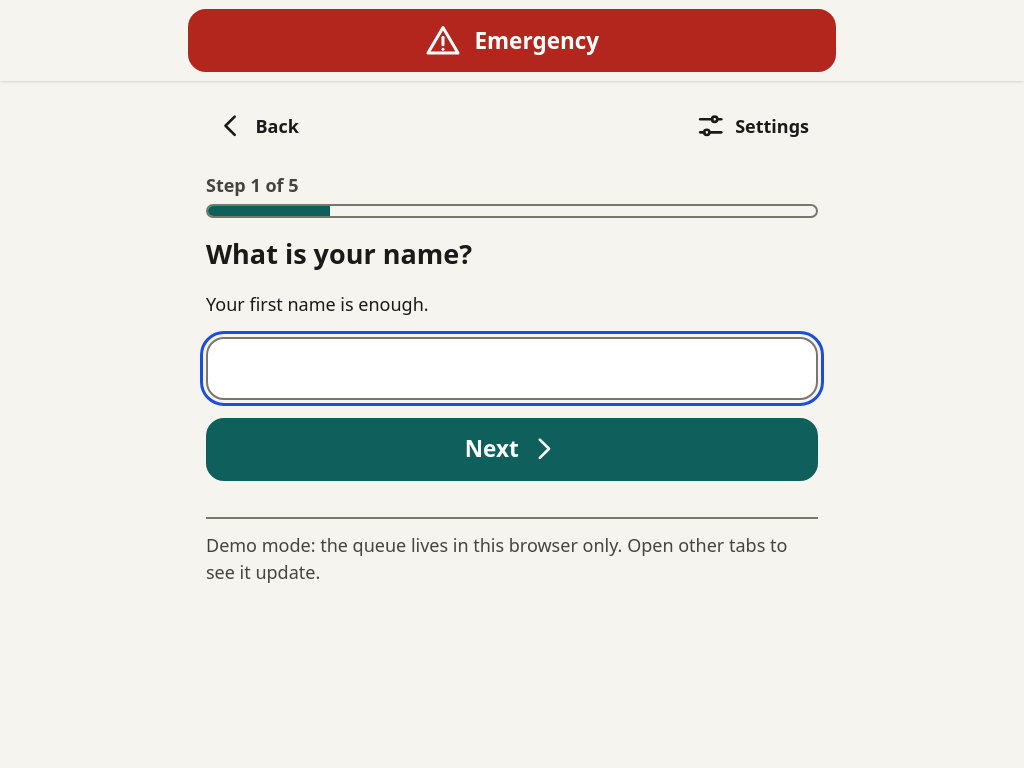
Scenario: register › checks answers before moving on
Click the button "Next": (512, 449) x1=206 y1=418 x2=818 y2=481
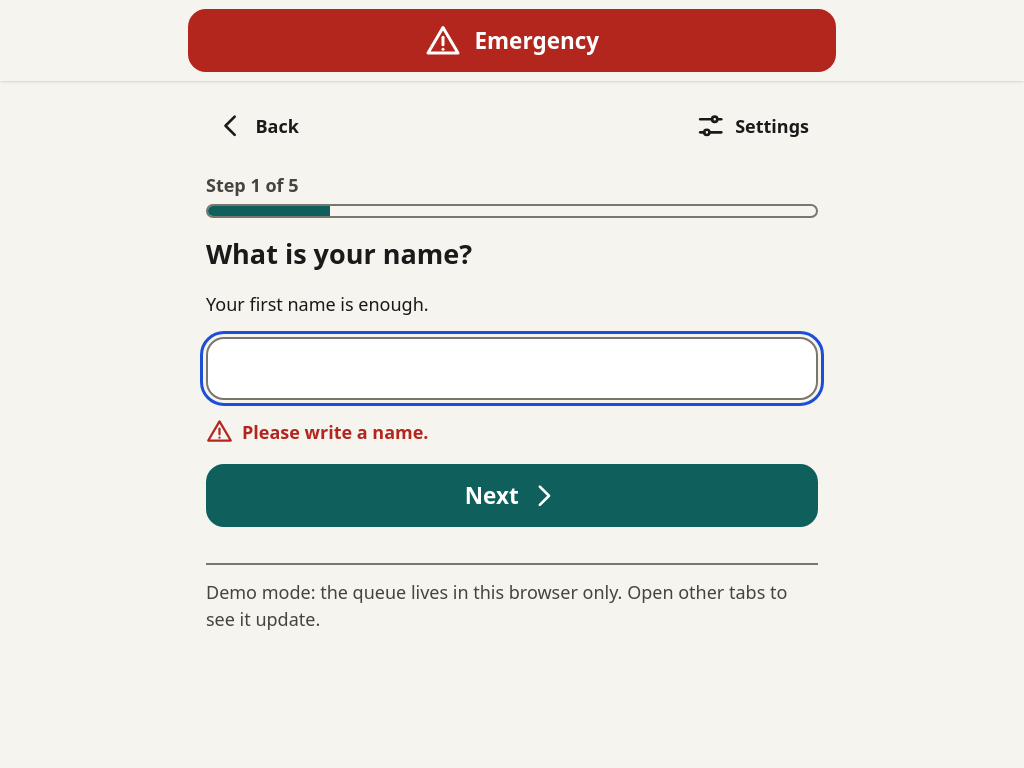
Now the message reads "Please write a name.", box x1=242 y1=420 x2=428 y2=444
In the field: (512, 368) x1=206 y1=337 x2=818 y2=400, type "Kamla"
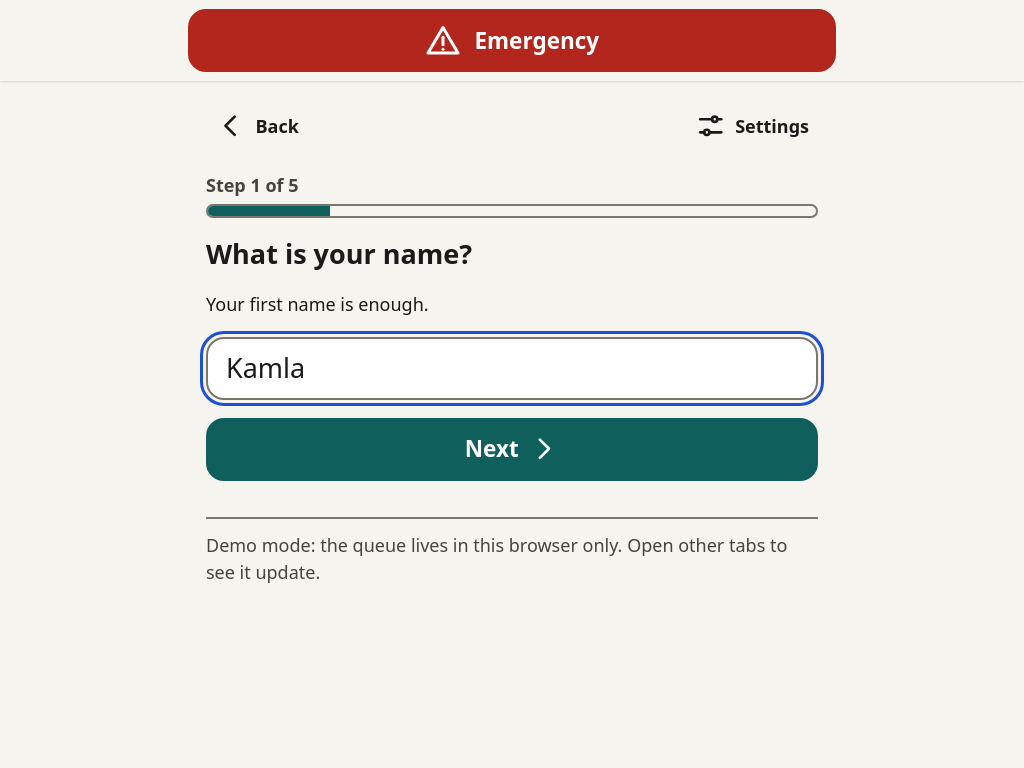
Click the button "Next": (512, 449) x1=206 y1=418 x2=818 y2=481
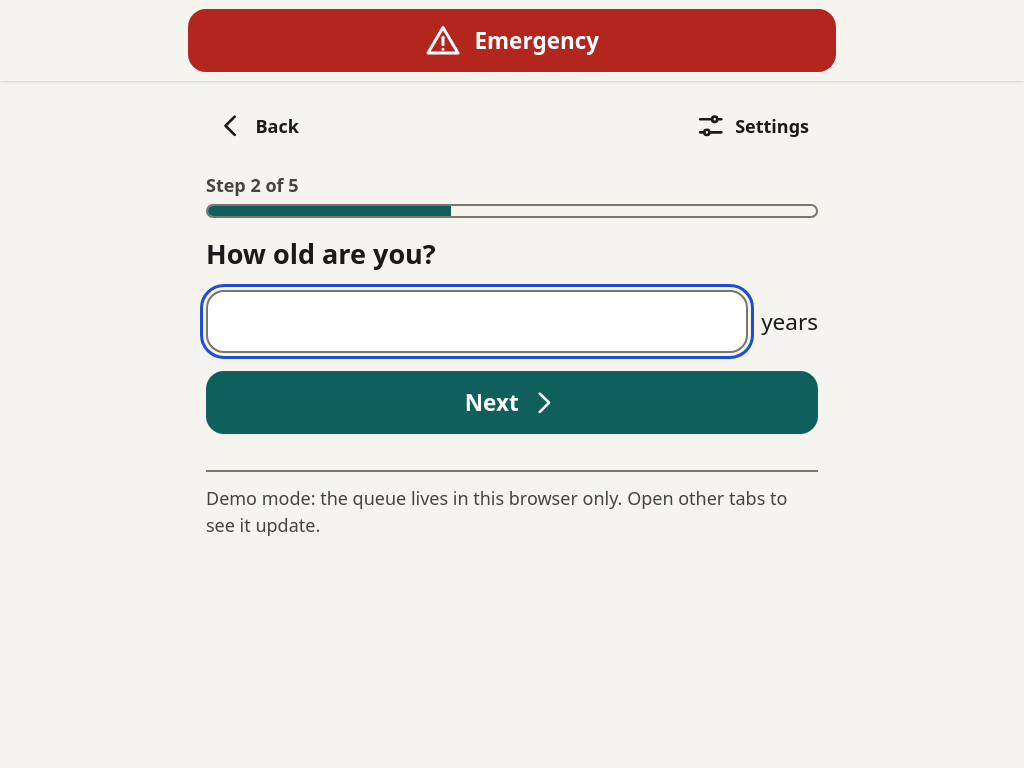
In the field: (477, 321) x1=206 y1=290 x2=748 y2=353, type "200"
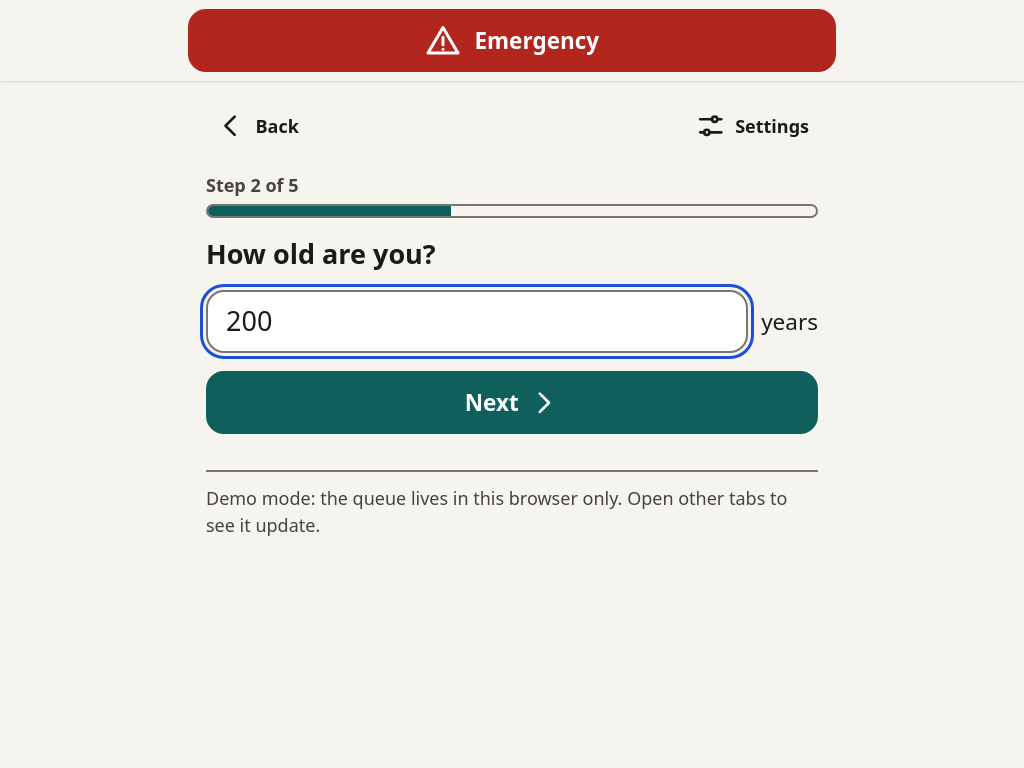
Click the button "Next": (512, 402) x1=206 y1=371 x2=818 y2=434
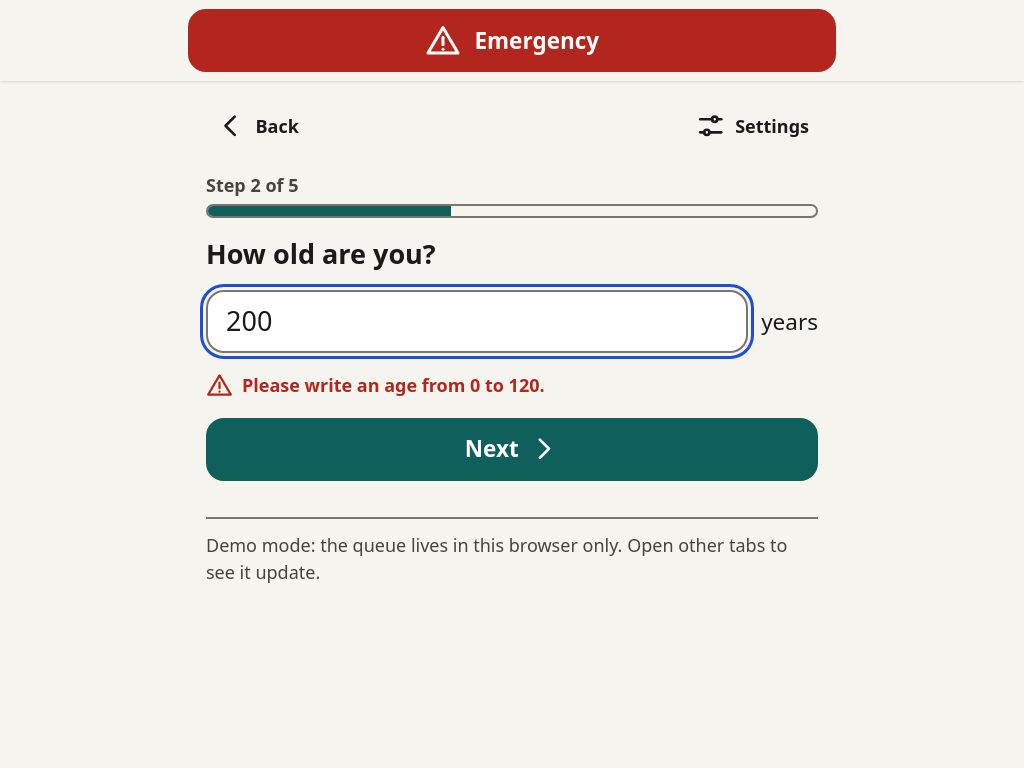
Now the message reads "Please write an age from 0 to 120.", box x1=242 y1=373 x2=545 y2=397
